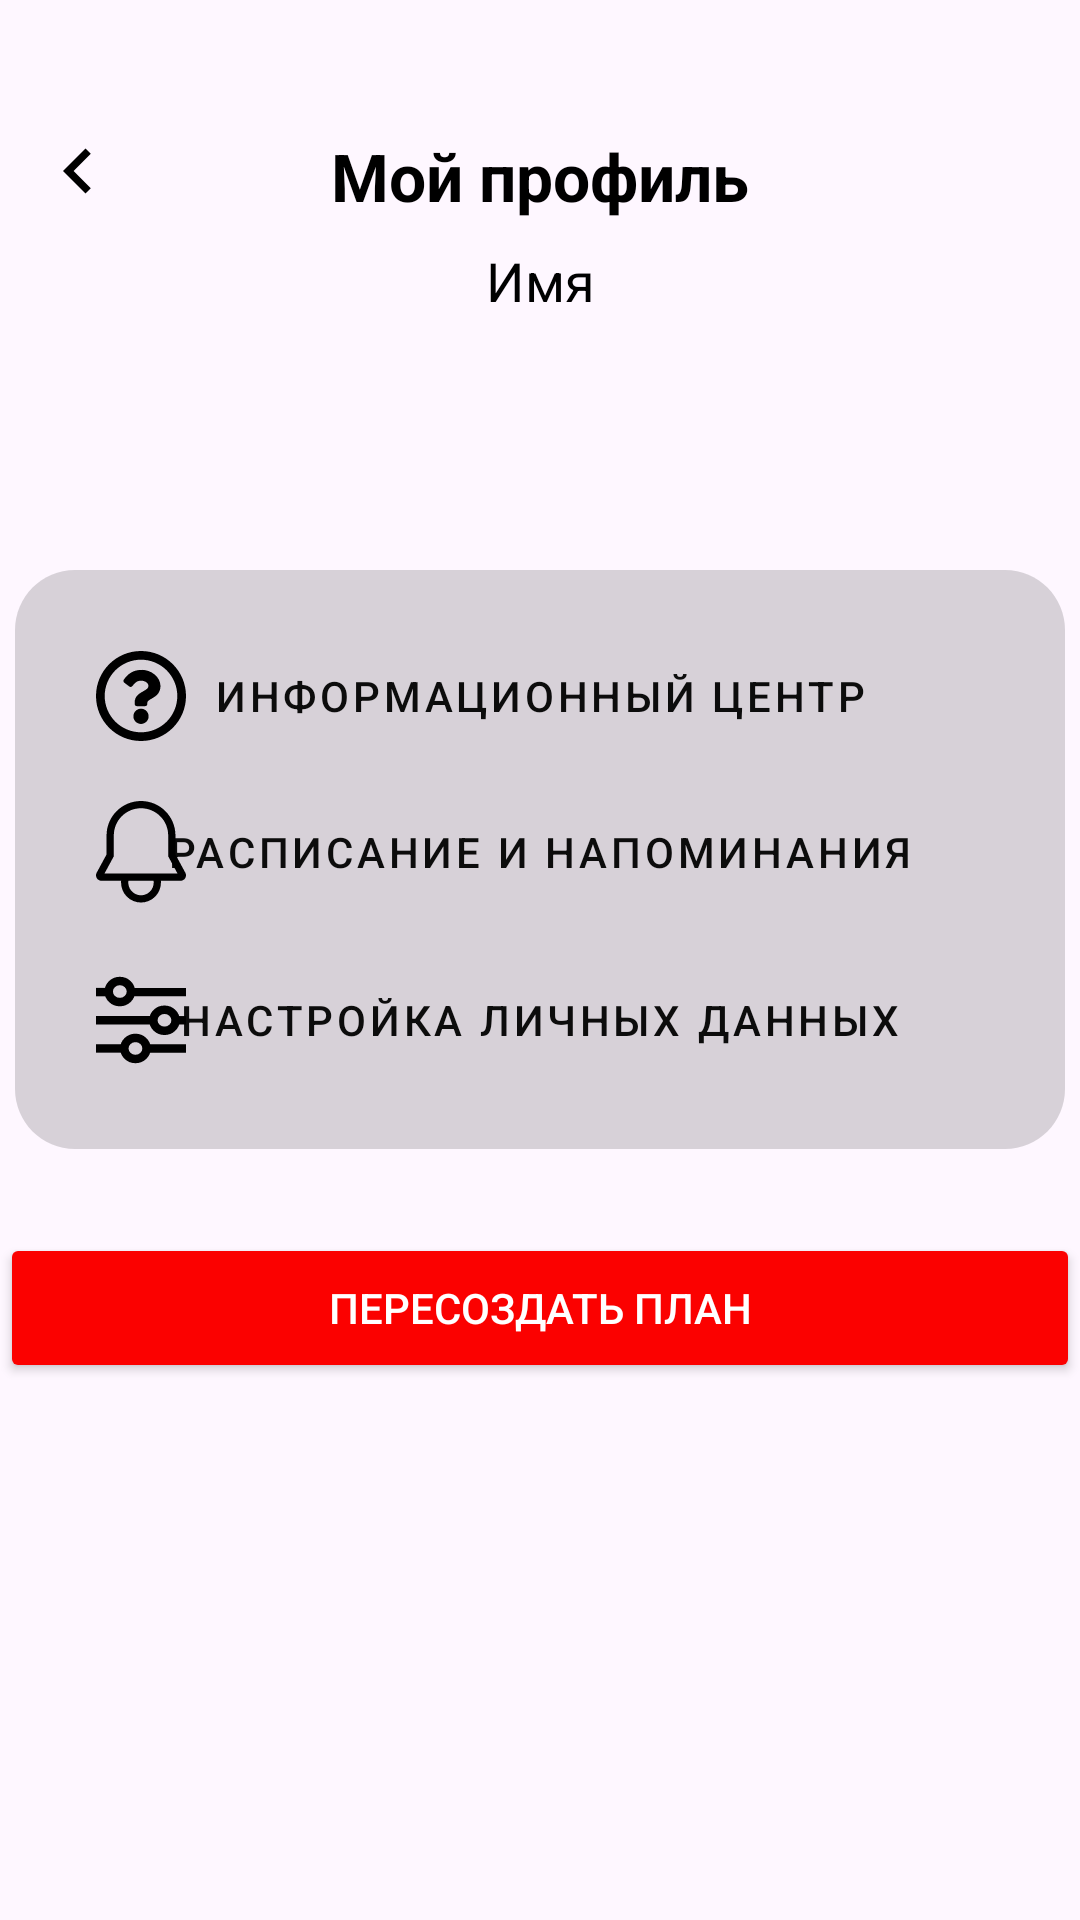

Named icons in this screenshot (1080×1920) and their bounding boxes, Rect(x1, y1, x2, y2):
bell: Rect(96, 801, 186, 903)
info: Rect(96, 651, 186, 741)
settings: Rect(96, 976, 186, 1064)
Нажмите, если хотите вернуться на предыдущий экран: Rect(63, 148, 91, 194)
